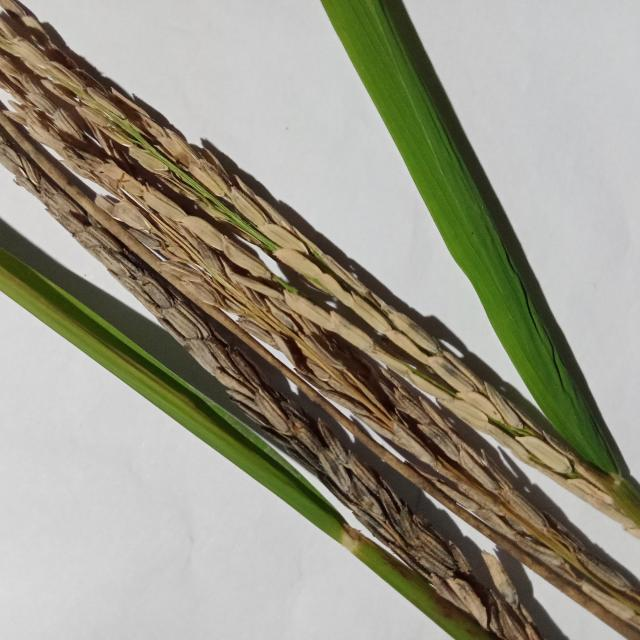Neck_Blast: (0, 2, 640, 640)
